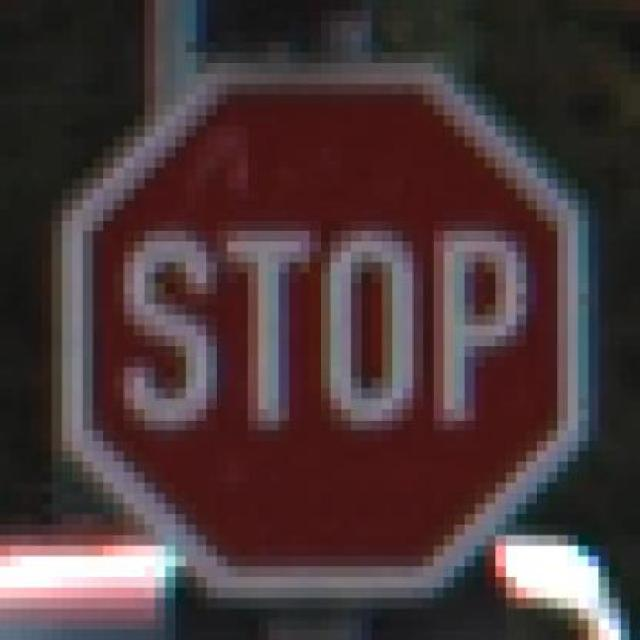Stop_Sign: (20, 42, 609, 609)
